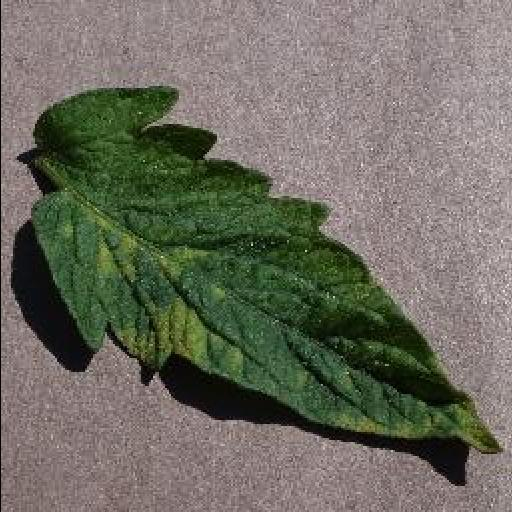disease_tomato: (32, 90, 502, 456)
